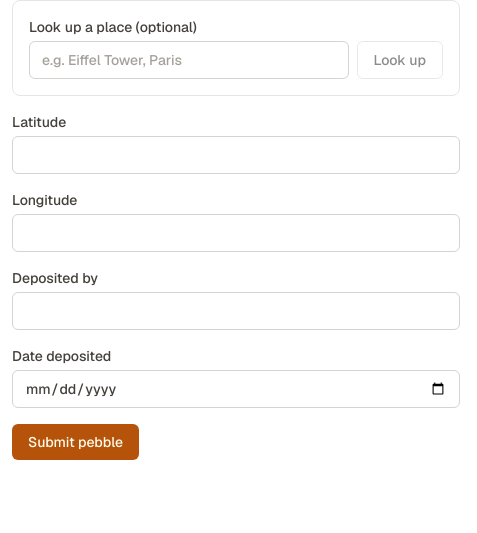
Scenario: SubmitPebbleForm › place lookup › fills in lat/long and shows the resolved address when PlaceLookup resolves a place
The image size is (477, 533).
Type "Eiffel Tower, Paris" into the field with placeholder "e.g. Eiffel Tower, Paris" at (189, 60), box [29,41,348,79]
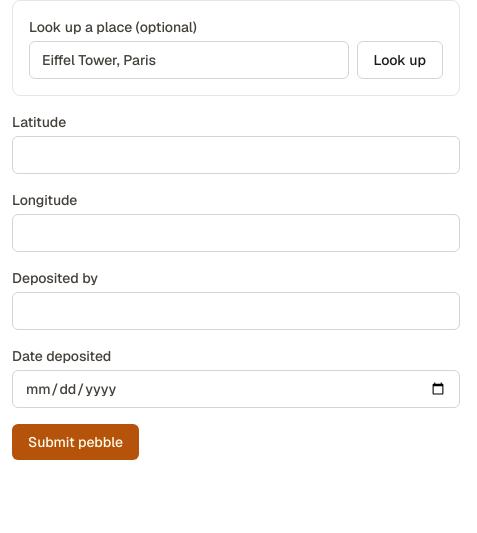
Click the button "Look up" at (400, 60), box [356,41,443,79]
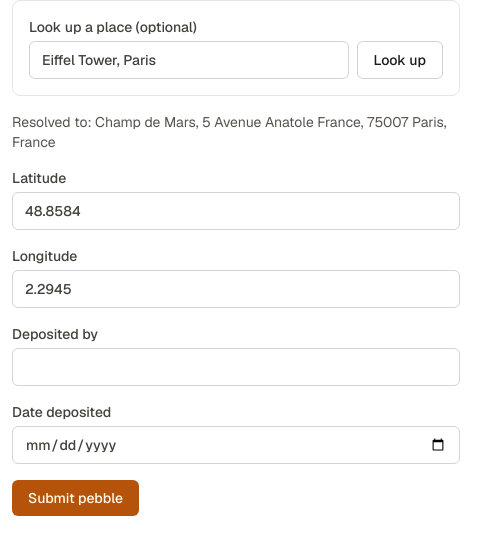
Expected: the text "Resolved to: Champ de Mars" is shown, [12,112,460,152]
Expected: the field showing "48.8584" is shown, [12,192,460,230]
Expected: the field showing "2.2945" is shown, [12,270,460,308]
